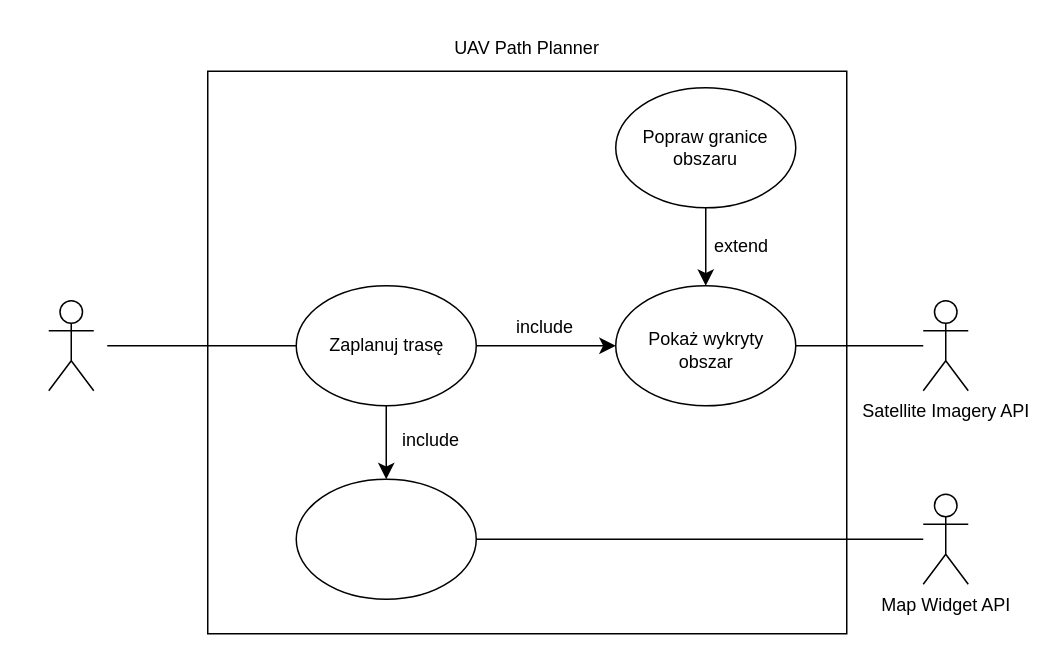
Some shapes in this 1055 by 660 pixel diagram are drawn without their labels. The shapes that lost their labels are listed below. From the top down, each one's centre as x and y in pixels, then its label:
[70,345]: Użytkownik
[385,538]: Dodaj waypoint
